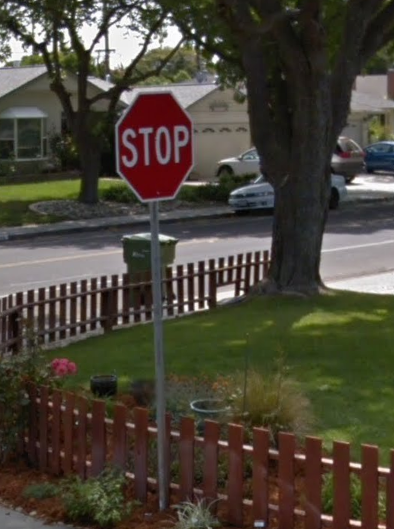stop_sign: (114, 93, 193, 200)
